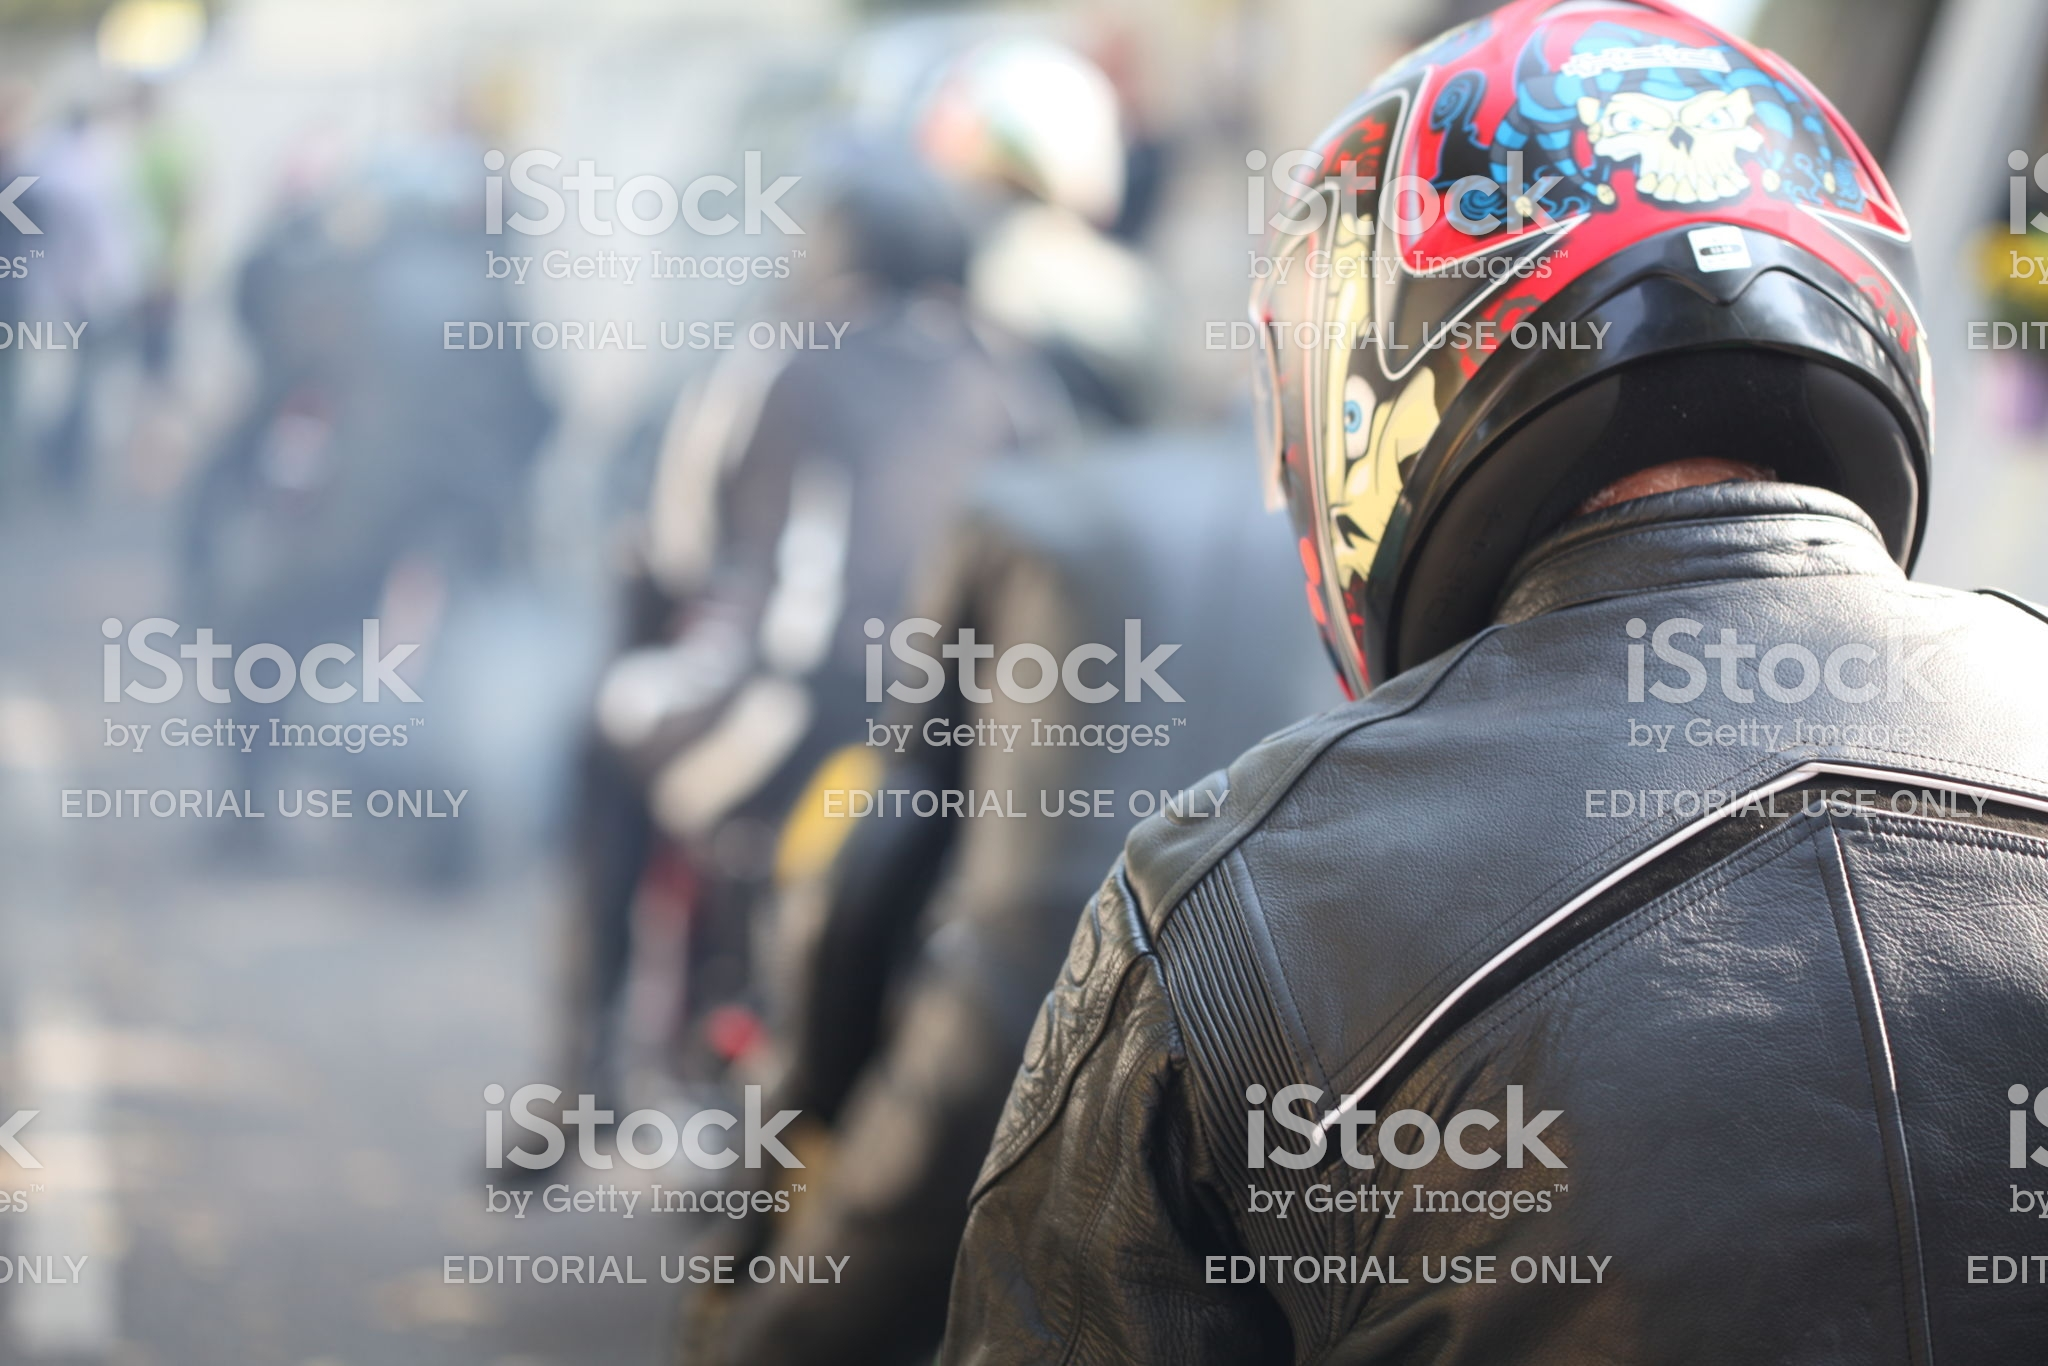helmet: (1224, 38, 1938, 523)
